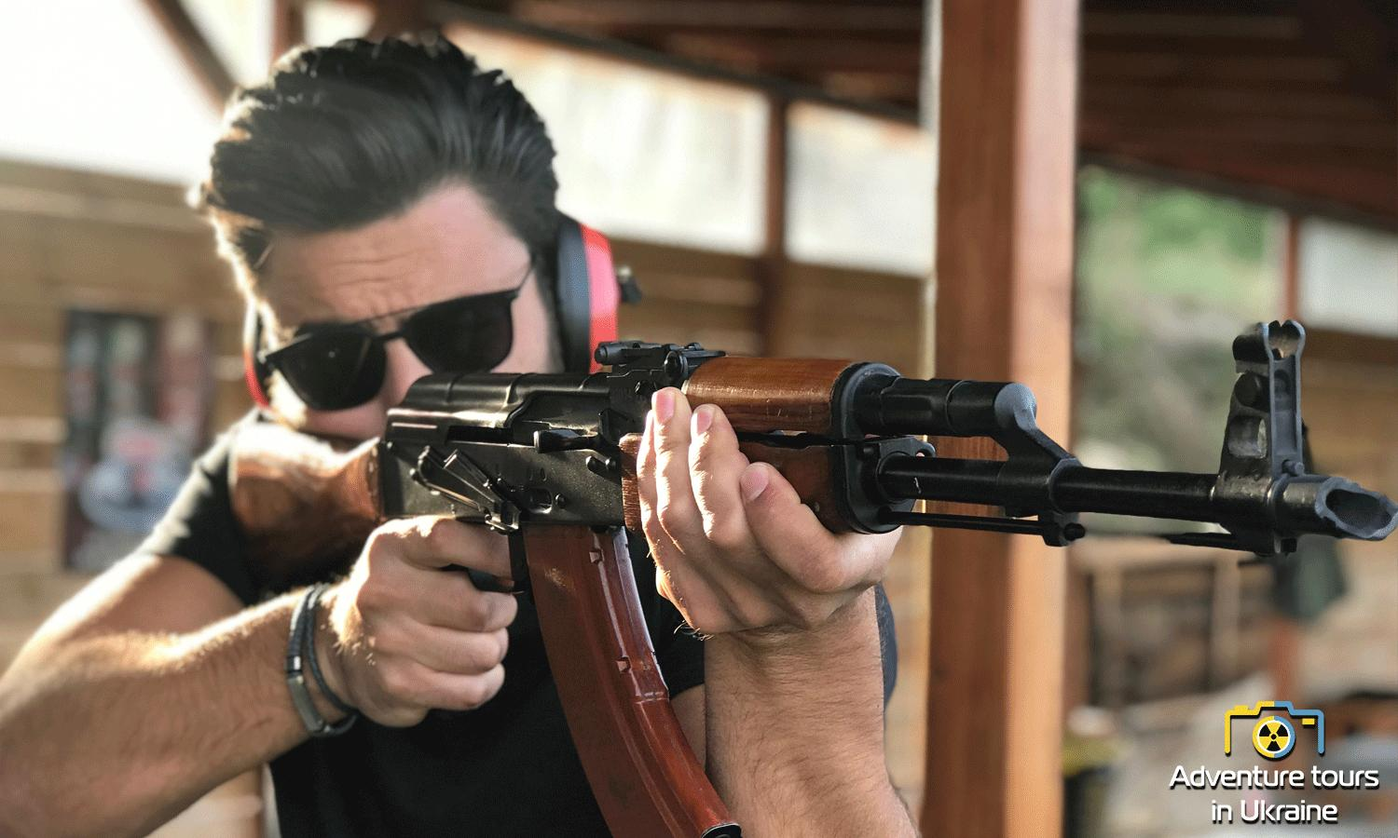larga: (226, 320, 1398, 838)
